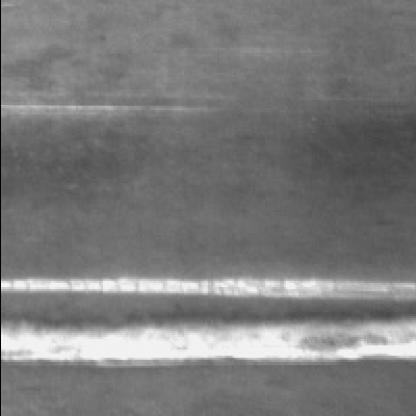scratches: (4, 293, 416, 368), (4, 274, 416, 298), (3, 93, 228, 120)
